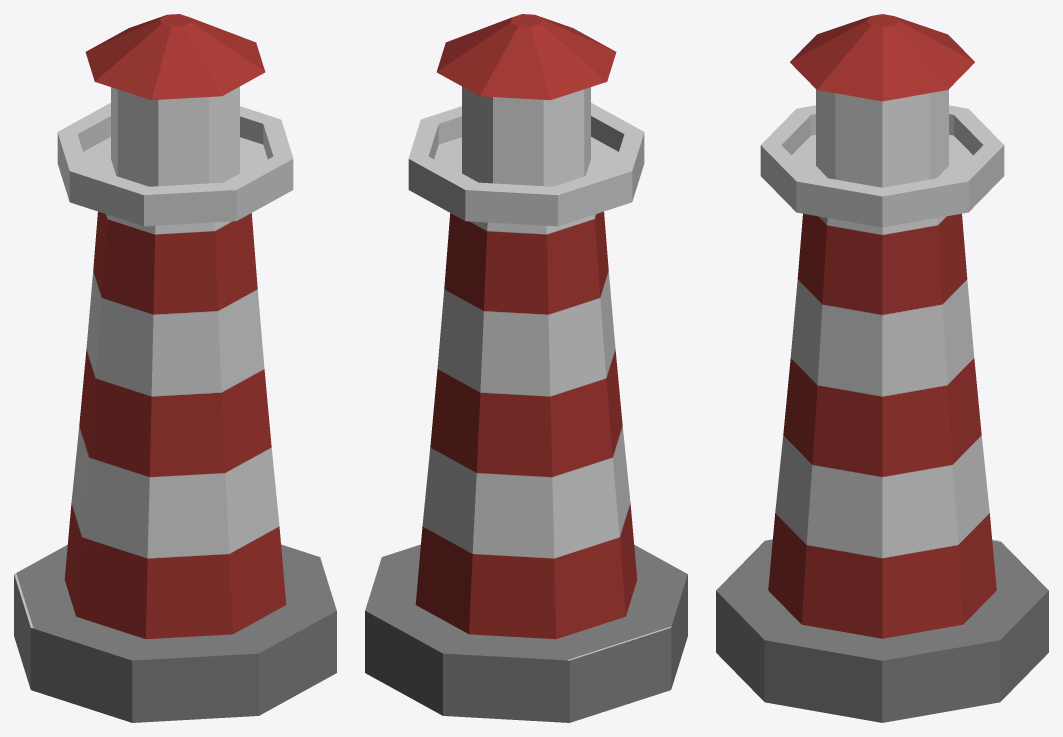
Rendered from lighthouse_site.gltf.
3 views of the same model, side by side, from view 1: azimuth 30°, elevation 25°; view 2: azimuth 150°, elevation 25°; view 3: azimuth 270°, elevation 25° (orthographic).
Visible parts, largest first — view 1: lighthouse; view 2: lighthouse; view 3: lighthouse.
Boxes of the visible parts, bbox=[...] form: lighthouse: bbox=[14, 14, 336, 722]; lighthouse: bbox=[365, 14, 687, 722]; lighthouse: bbox=[716, 14, 1048, 722].
Bounding box in the file's own units: 2.91 × 6.1 × 2.91.
Materials: 2 (1 with a texture image).
